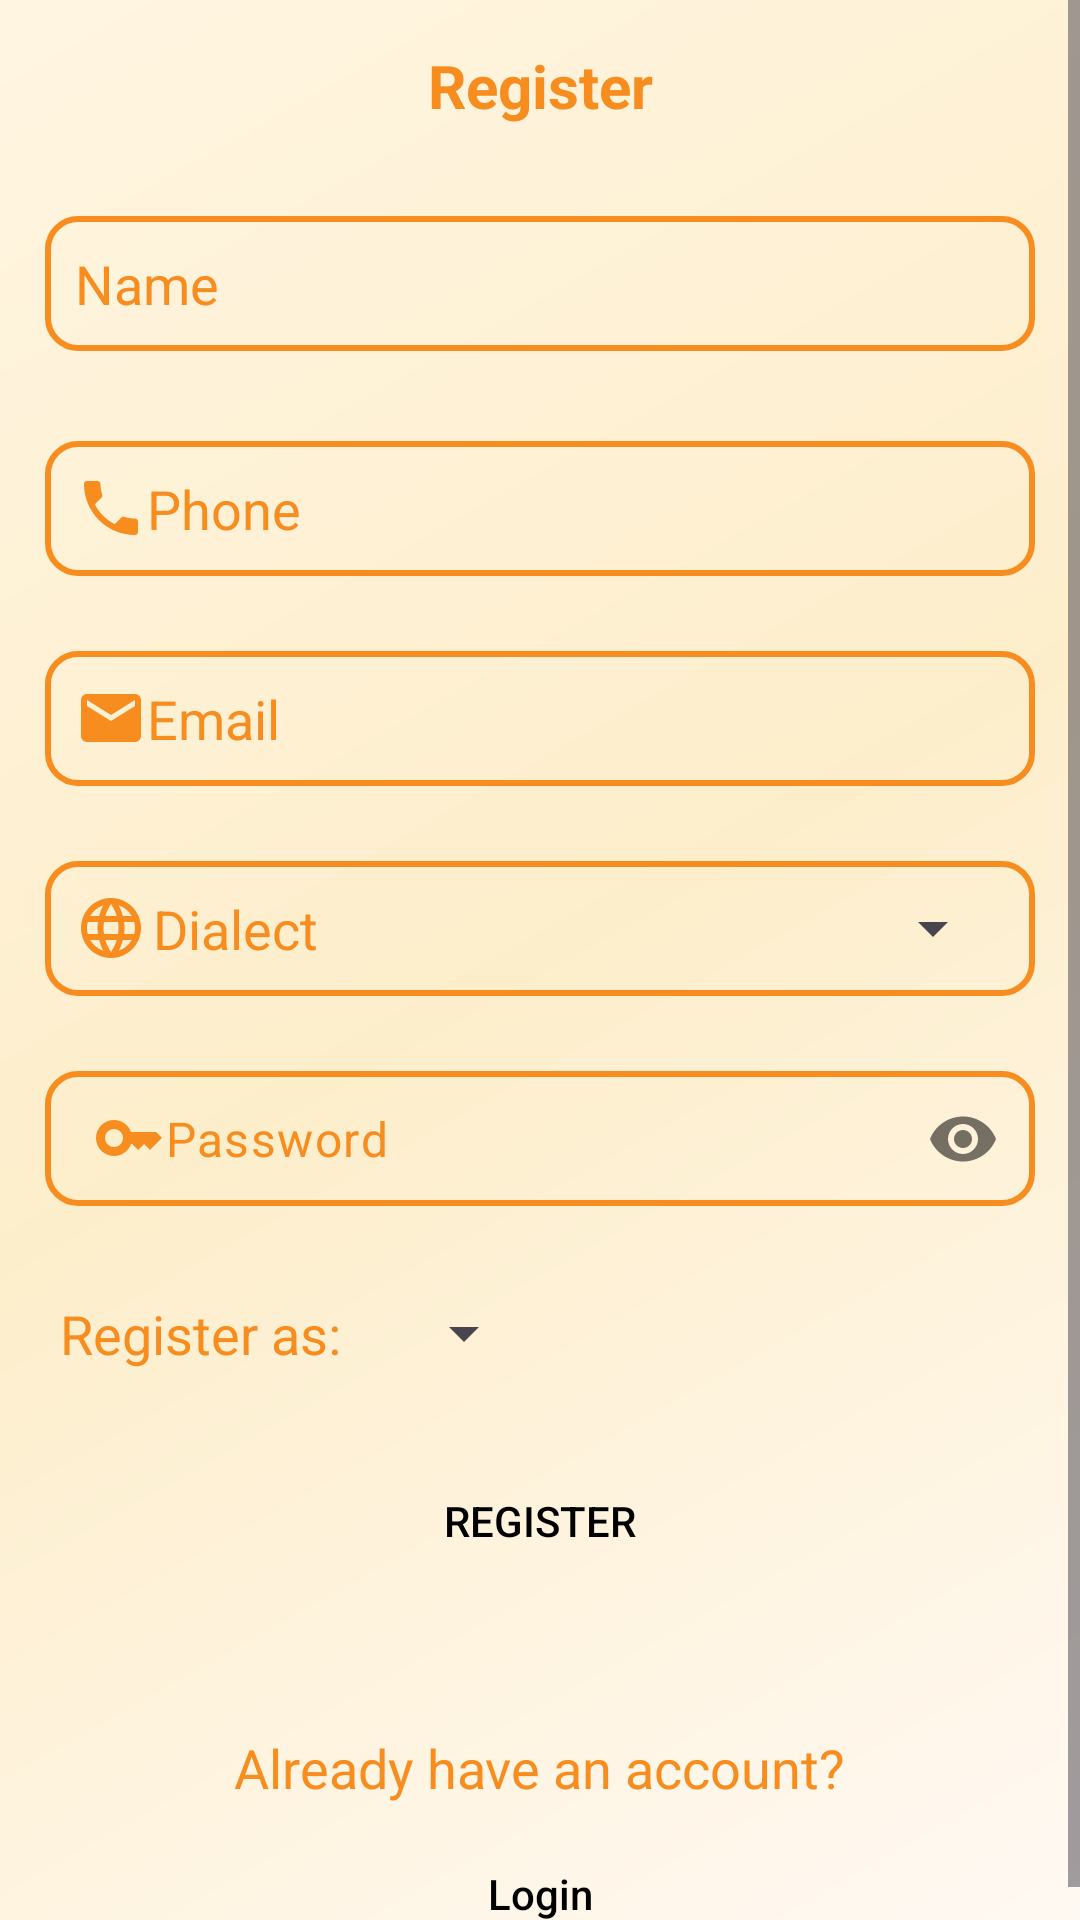

Named icons in this screenshot (1080×1920) and their bounding boxes, BBox(x1, y1, x2, y2):
language: BBox(81, 898, 141, 958)
